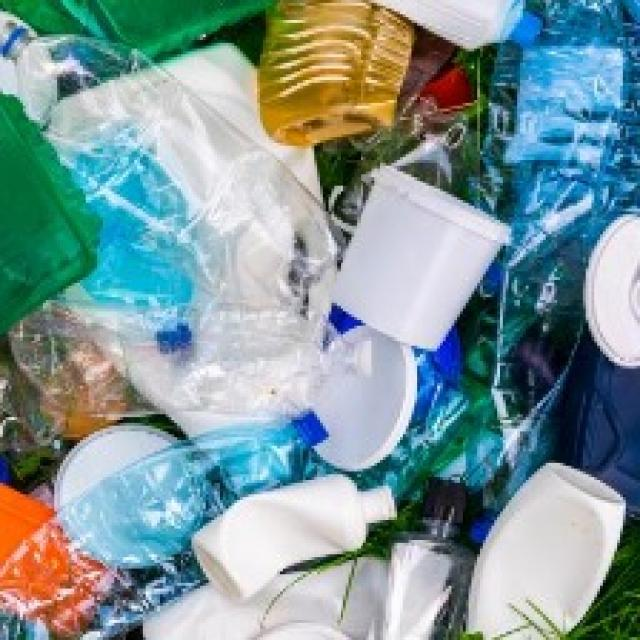plastic: (342, 154, 512, 375), (466, 456, 624, 640), (193, 475, 410, 592)
plastic_bottle: (5, 30, 360, 335), (494, 1, 640, 311), (256, 1, 411, 147)
